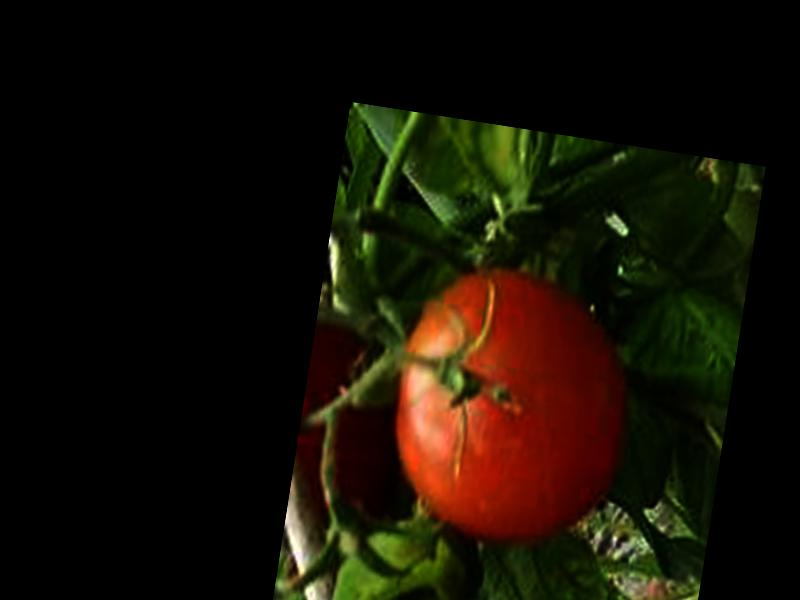Tomato: (376, 257, 640, 554)
